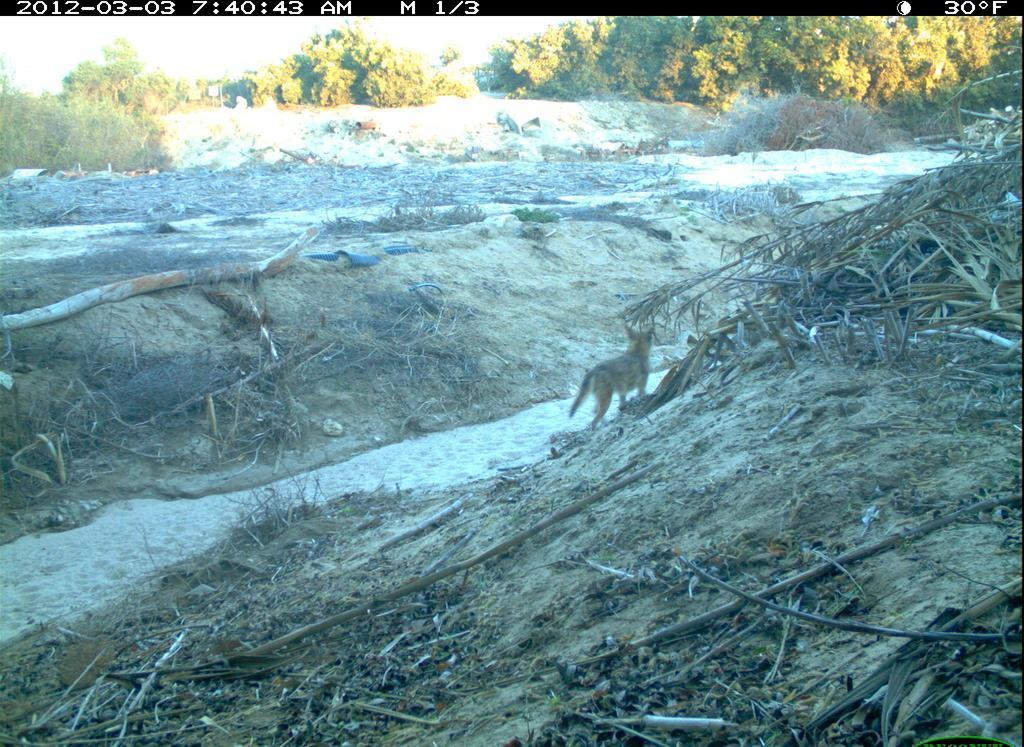coyote: (566, 317, 664, 440)
